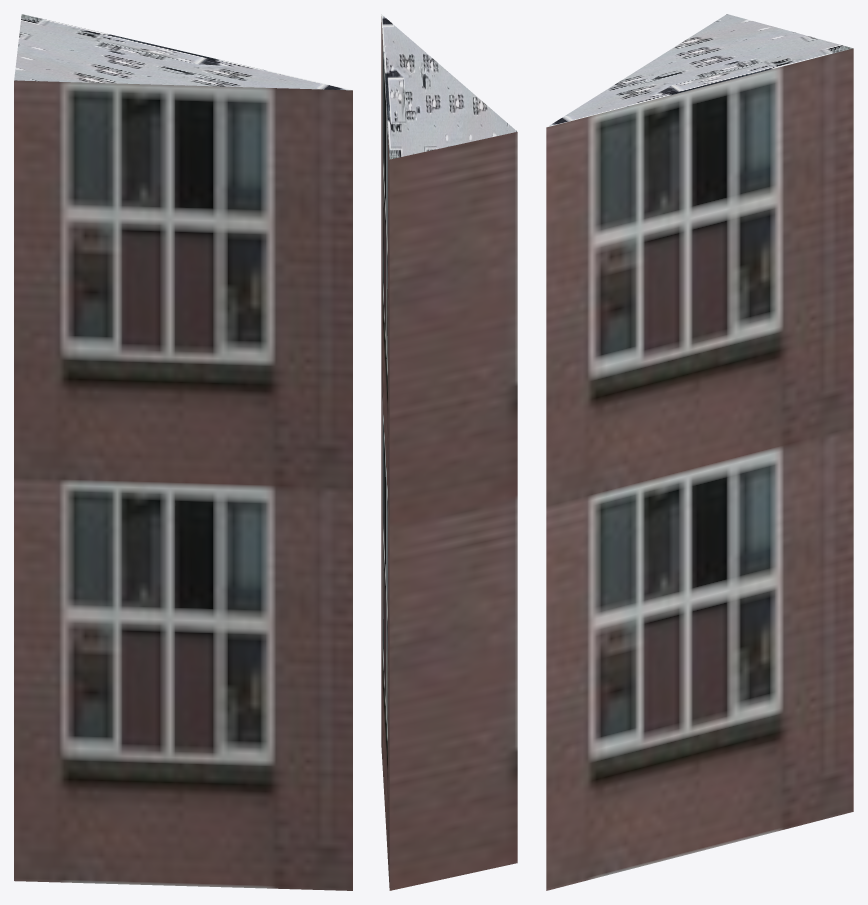
Rendered from ResTex__3624.fbx.
3 views of the same model, side by side, from view 1: azimuth 30°, elevation 25°; view 2: azimuth 150°, elevation 25°; view 3: azimuth 270°, elevation 25° (orthographic). The views are drawn at different scales.
Parts seen in each view (by area): view 1: CityEngineMaterial_12_m, CityEngineMaterial_8_m; view 2: CityEngineMaterial_12_m, CityEngineMaterial_8_m; view 3: CityEngineMaterial_12_m, CityEngineMaterial_8_m.
Boxes of the visible parts, x1,y1,x2,y2 form: CityEngineMaterial_12_m: (14,80,352,890); CityEngineMaterial_8_m: (14,14,351,90); CityEngineMaterial_12_m: (381,16,517,890); CityEngineMaterial_8_m: (381,14,517,159); CityEngineMaterial_12_m: (546,48,853,890); CityEngineMaterial_8_m: (547,14,852,127).
Bounding box in the file's own units: 1.91 × 6 × 2.19.
2 materials, 2 textured.
